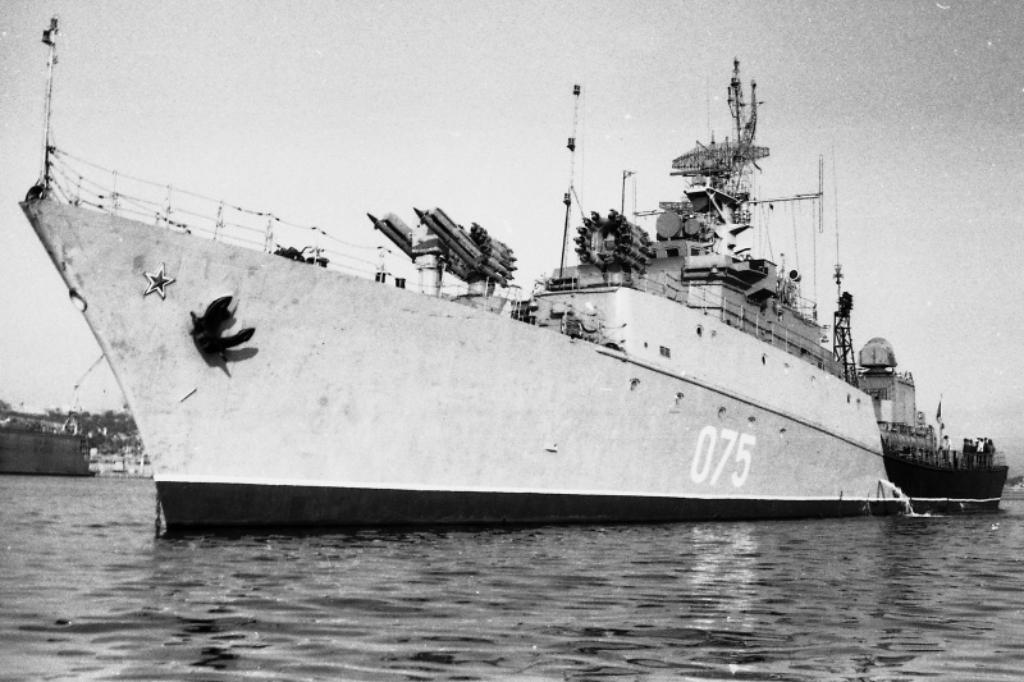Warship: (15, 13, 1017, 539)
